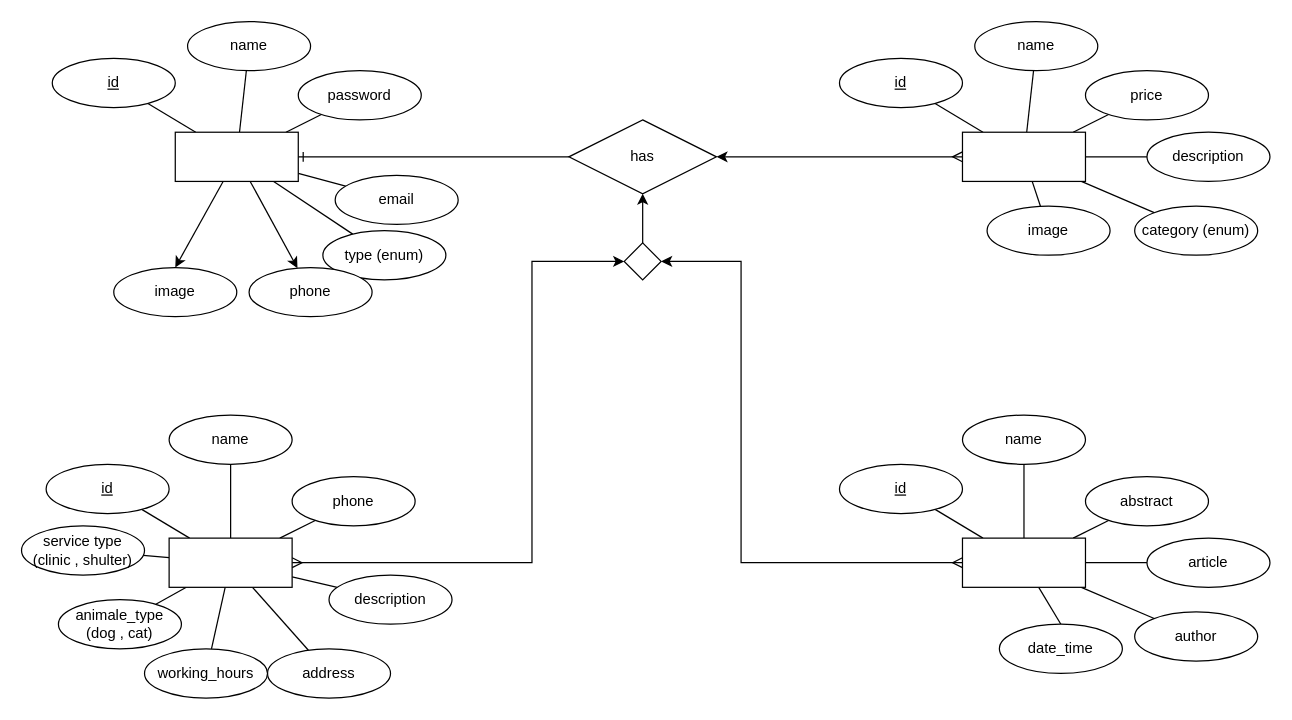
Image size: 1292x720. Some labels were removed from this diagram. Here are the shapes that lost their labels. From the top down, the box of each, then its label:
(174, 131, 298, 181): User
(961, 131, 1085, 181): product
(168, 537, 292, 587): service
(961, 537, 1085, 587): blog
